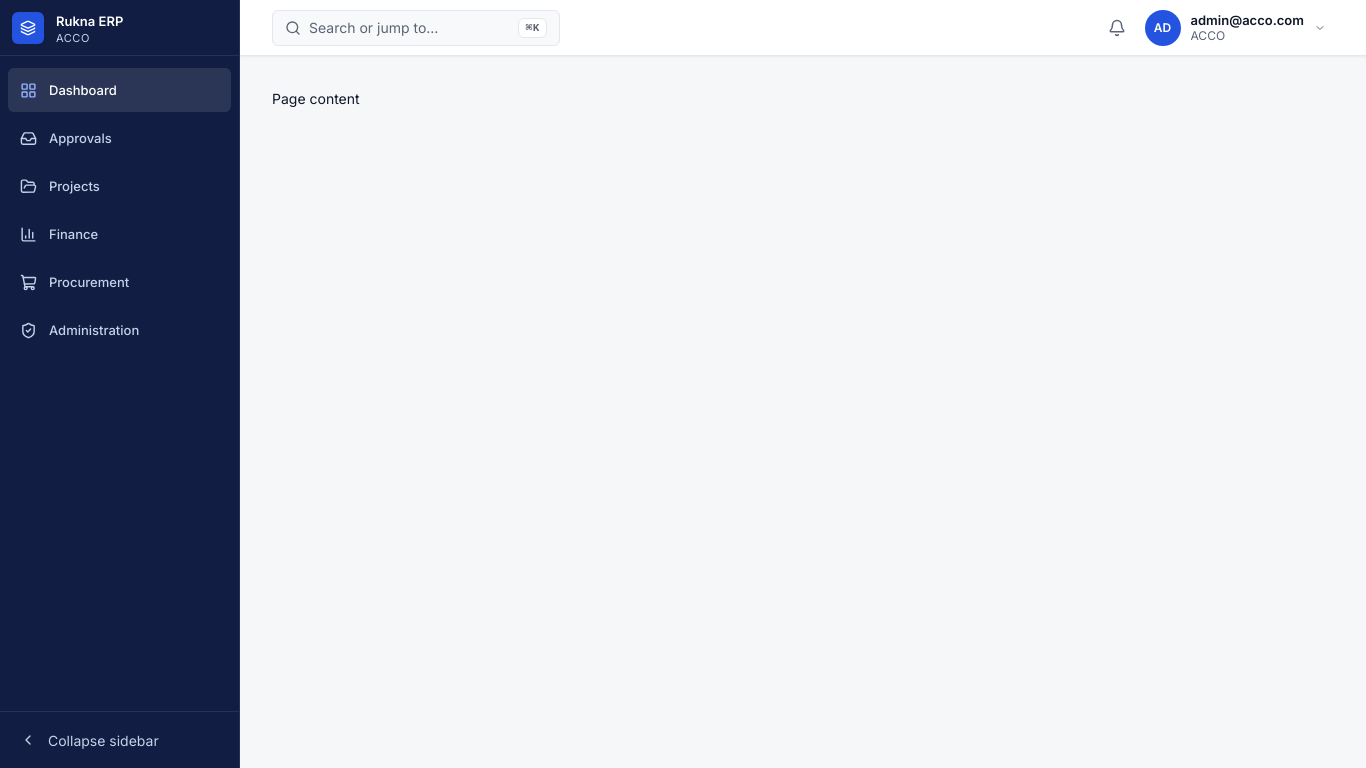
Test case: AppShell — navigation › collapses the desktop sidebar and persists the compact preference
The width and height of the screenshot is (1366, 768).
Click the button "Collapse sidebar".
click(120, 740)  # box x1=8 y1=720 x2=231 y2=760
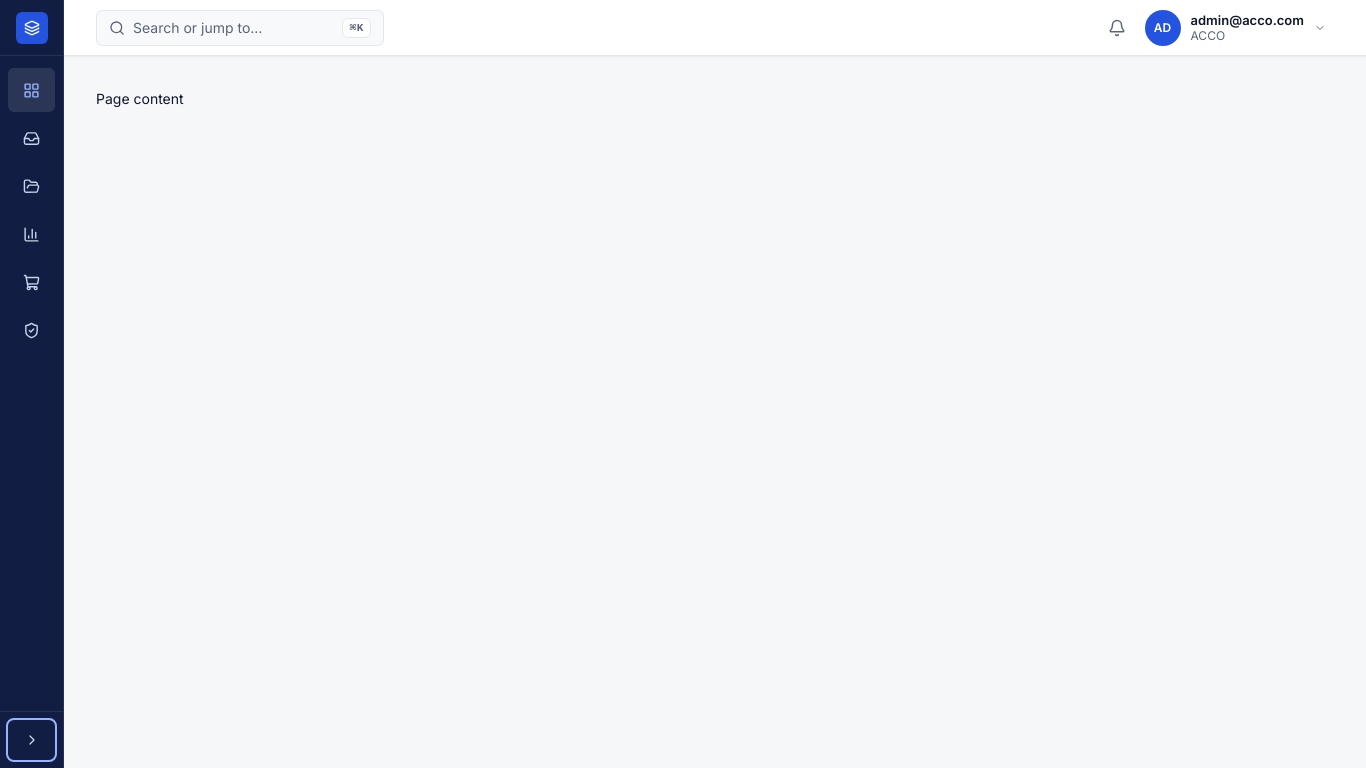
Expected: the button named "Expand sidebar" is shown, x1=8 y1=720 x2=55 y2=760
